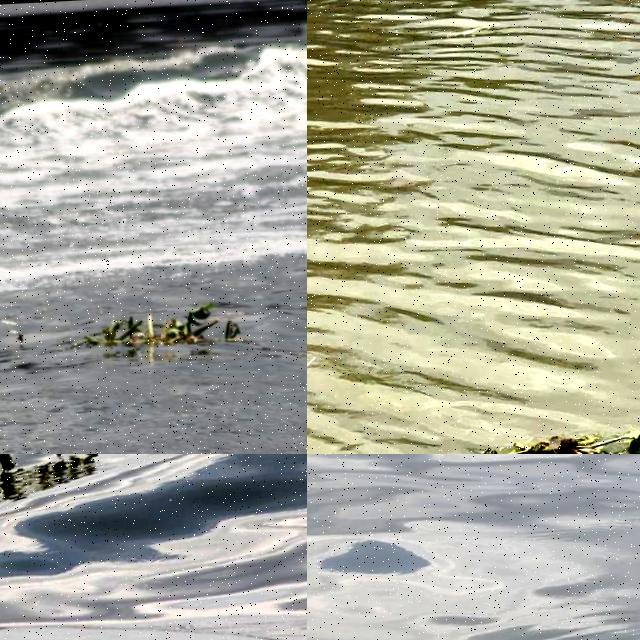water-hyacinth: (76, 297, 230, 363), (414, 422, 640, 455), (1, 455, 92, 503)
